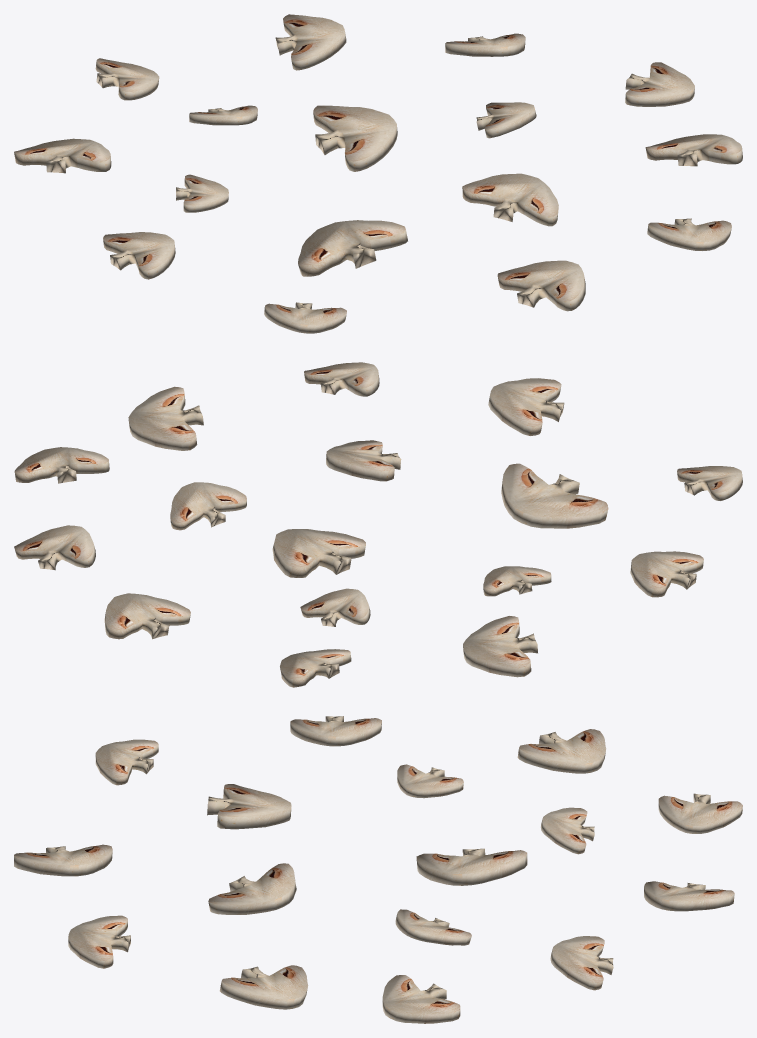
File: mushroom_topping.fbx
3 views of the same model, one above another, from view 1: azimuth 30°, elevation 25°; view 2: azimuth 150°, elevation 25°; view 3: azimuth 270°, elevation 25° (orthographic).
Parts seen in each view (by area): view 1: mushroom.013, mushroom.006, mushroom.008, mushroom.003, mushroom.010, mushroom, mushroom.012, mushroom.011, mushroom.002, mushroom.005, mushroom.001, mushroom.007 (+4 smaller); view 2: mushroom.013, mushroom.006, mushroom.011, mushroom.012, mushroom.003, mushroom.010, mushroom.014, mushroom.009, mushroom, mushroom.002, mushroom.008, mushroom.005 (+4 smaller); view 3: mushroom.006, mushroom.008, mushroom.012, mushroom.011, mushroom.013, mushroom.002, mushroom.007, mushroom.003, mushroom.009, mushroom.005, mushroom, mushroom.010 (+4 smaller).
Boxes of the visible parts, <box> form: mushroom.013: <box>298,220,407,276</box>; mushroom.006: <box>313,105,397,171</box>; mushroom.008: <box>462,173,558,226</box>; mushroom.003: <box>497,260,585,311</box>; mushroom.010: <box>275,14,346,70</box>; mushroom: <box>103,232,175,279</box>; mushroom.012: <box>14,138,111,173</box>; mushroom.011: <box>645,134,742,166</box>; mushroom.002: <box>625,62,694,106</box>; mushroom.005: <box>647,218,731,250</box>; mushroom.001: <box>264,302,346,333</box>; mushroom.007: <box>95,58,159,100</box>; mushroom.013: <box>501,463,608,528</box>; mushroom.006: <box>272,529,365,577</box>; mushroom.011: <box>128,386,203,450</box>; mushroom.012: <box>463,616,537,677</box>; mushroom.003: <box>488,378,564,435</box>; mushroom.010: <box>104,593,190,639</box>; mushroom.014: <box>170,482,246,530</box>; mushroom.009: <box>14,525,95,570</box>; mushroom: <box>630,551,703,597</box>; mushroom.002: <box>14,447,109,483</box>; mushroom.008: <box>326,440,401,481</box>; mushroom.005: <box>304,362,379,396</box>; mushroom.006: <box>416,848,527,885</box>; mushroom.008: <box>208,863,296,914</box>; mushroom.012: <box>517,729,606,773</box>; mushroom.011: <box>219,965,308,1009</box>; mushroom.013: <box>207,784,291,829</box>; mushroom.002: <box>382,975,460,1023</box>; mushroom.007: <box>658,793,742,833</box>; mushroom.003: <box>14,844,112,876</box>; mushroom.009: <box>550,936,613,990</box>; mushroom.005: <box>68,915,130,968</box>; mushroom: <box>290,716,381,746</box>; mushroom.010: <box>644,881,734,911</box>.
Size of the model in its own units: 51.86 by 2.35 by 53.5.
16 materials, 16 textured.
